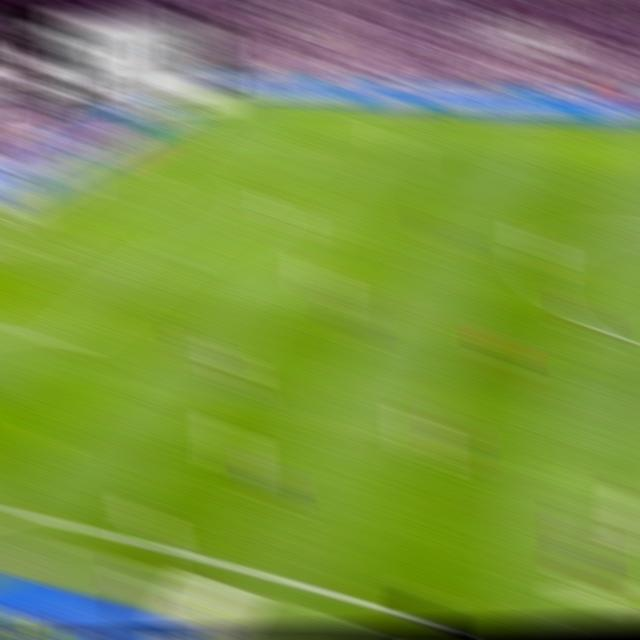bigarea_bottom_inner: (52, 326, 83, 357)
bigarea_top_inner: (286, 134, 315, 158)
bigarea_top_outter: (150, 119, 180, 140)
bottom_arc_area_intersection: (155, 243, 187, 269)
corner: (206, 88, 236, 106)
smallarea_bottom_inner: (16, 234, 47, 261)
smallarea_top_inner: (138, 161, 166, 179)
top_arc_area_intersection: (235, 177, 265, 199)
